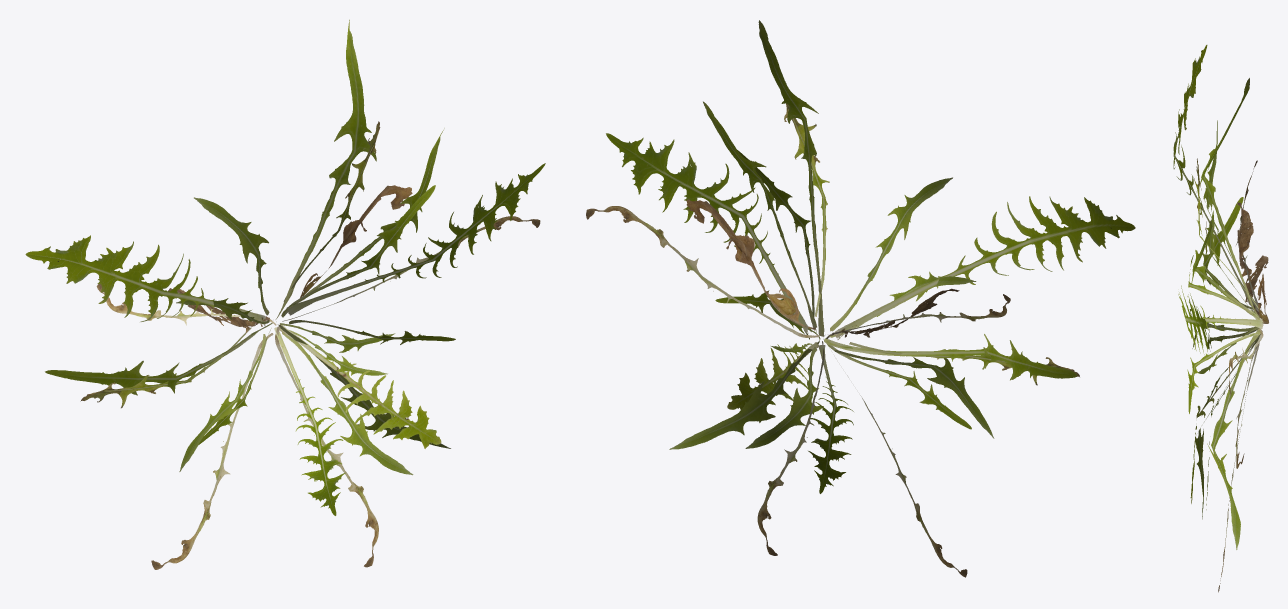
File: Weed_02_Var1_LOD2.fbx
The picture shows the model from 3 angles, left to right: view 1: azimuth 30°, elevation 25°; view 2: azimuth 150°, elevation 25°; view 3: azimuth 270°, elevation 25°; orthographic projection. The views are drawn at different scales.
Visible parts, largest first — view 1: Var1_LOD2; view 2: Var1_LOD2; view 3: Var1_LOD2.
Boxes of the visible parts, bbox=[...] form: Var1_LOD2: bbox=[25, 19, 545, 569]; Var1_LOD2: bbox=[586, 20, 1135, 577]; Var1_LOD2: bbox=[1173, 45, 1268, 592].
Size of the model in its own units: 37.88 by 36.52 by 6.35.
